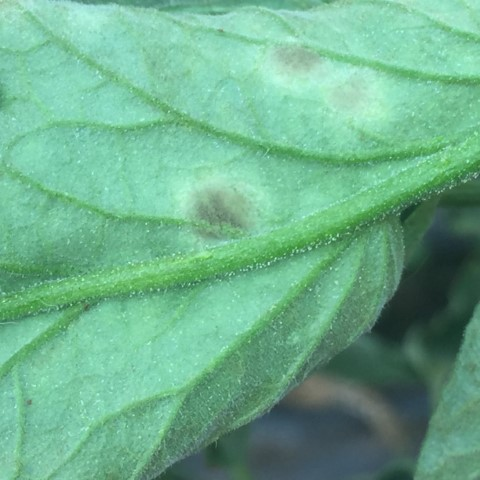negra: (183, 176, 270, 248), (267, 36, 336, 84), (329, 71, 376, 116)
